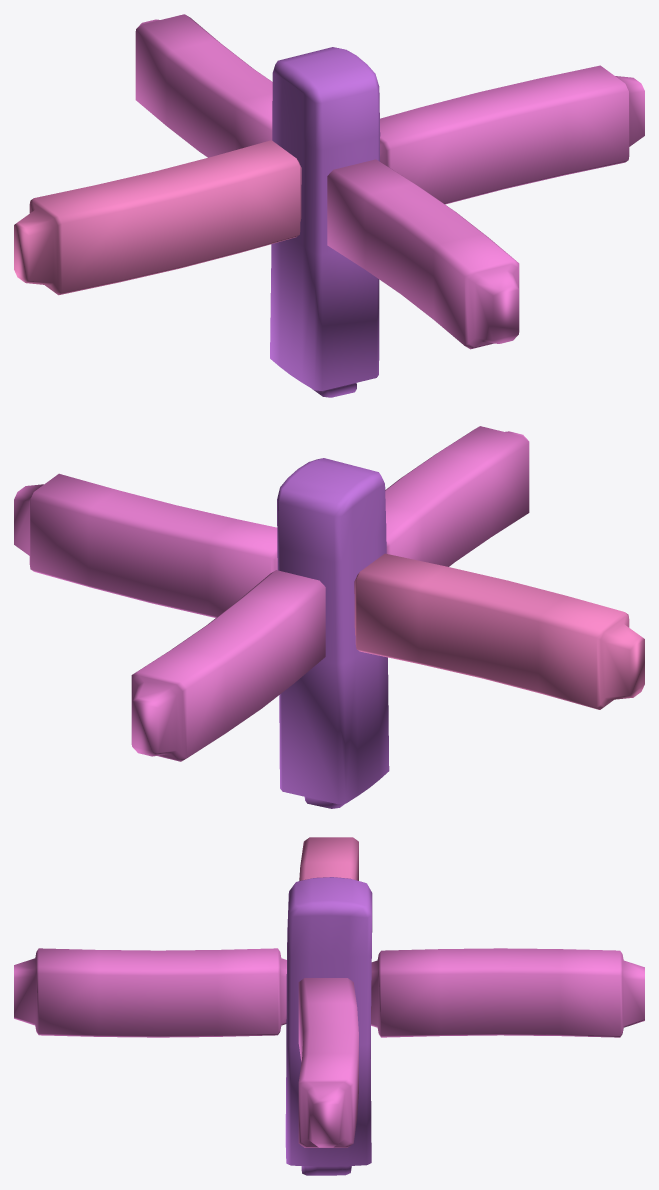
The model's file is Obstacle_16.fbx.
The picture shows the model from 3 angles, top to bottom: view 1: azimuth 30°, elevation 25°; view 2: azimuth 150°, elevation 25°; view 3: azimuth 270°, elevation 25°; orthographic projection. The views are drawn at different scales.
Visible parts, largest first — view 1: wood_11_1, wood_02, wood_11, wood_11 (1), wood_11 (2); view 2: wood_11_1, wood_02, wood_11, wood_11 (2), wood_11 (1); view 3: wood_11 (2), wood_11 (1), wood_02, wood_11, wood_11_1.
Part boxes in pixels (x1,y1,x2,y2): wood_11_1: [14, 140, 301, 295]; wood_02: [270, 47, 380, 397]; wood_11: [380, 65, 644, 204]; wood_11 (1): [327, 159, 519, 349]; wood_11 (2): [135, 14, 272, 157]; wood_11_1: [354, 553, 644, 709]; wood_02: [277, 458, 389, 808]; wood_11: [14, 473, 277, 617]; wood_11 (2): [131, 570, 325, 761]; wood_11 (1): [385, 426, 529, 566]; wood_11 (2): [371, 948, 644, 1037]; wood_11 (1): [14, 948, 286, 1037]; wood_02: [285, 877, 372, 1175]; wood_11: [298, 978, 358, 1147]; wood_11_1: [299, 837, 358, 880].
Size of the model in its own units: 6.64 by 3.32 by 6.8.
